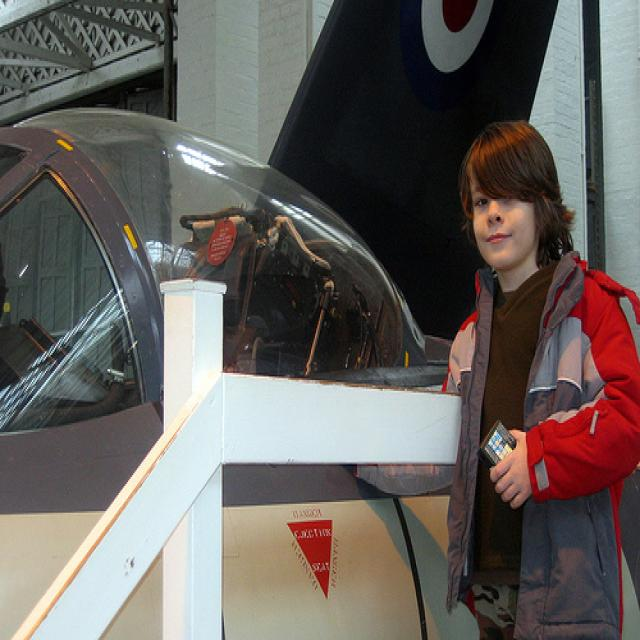aeroplane: (1, 1, 640, 639)
person: (440, 120, 640, 640)
